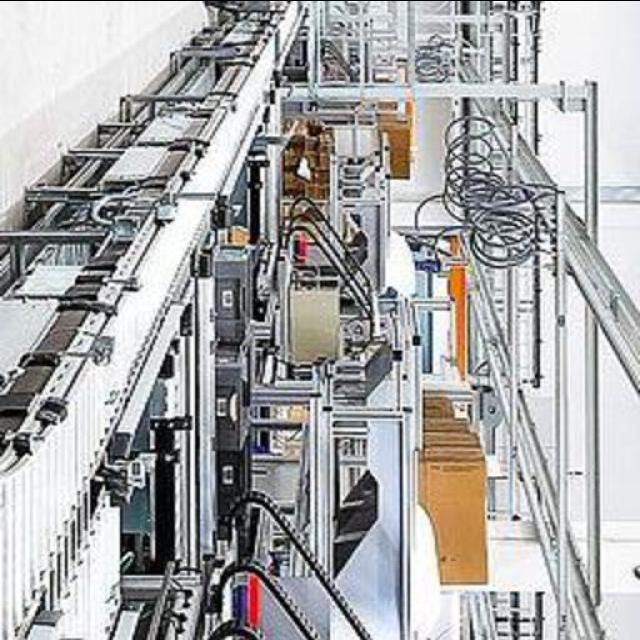conveyor: (0, 5, 308, 640)
